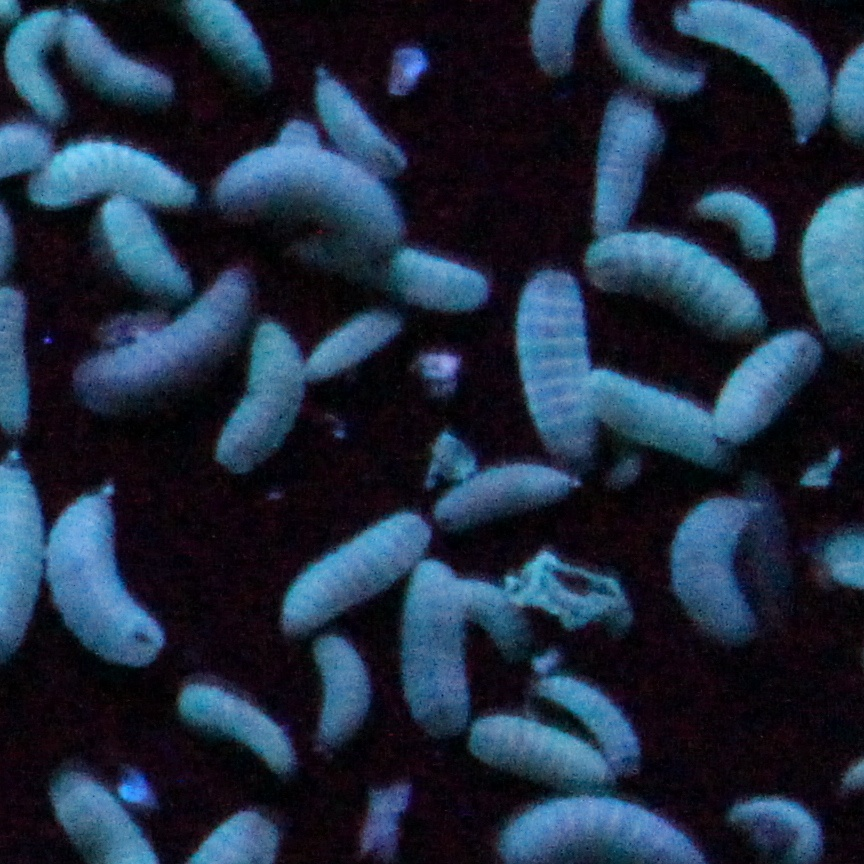larve: (213, 144, 397, 258), (73, 282, 244, 401), (54, 493, 172, 660), (287, 519, 426, 631), (580, 242, 760, 323), (401, 556, 475, 746), (587, 352, 716, 455), (211, 327, 301, 474), (522, 276, 591, 466), (464, 719, 615, 795), (582, 84, 658, 230), (684, 501, 758, 650), (53, 11, 172, 101), (338, 244, 487, 315), (716, 345, 833, 435), (93, 191, 197, 291), (28, 144, 201, 199), (530, 682, 632, 774), (305, 62, 393, 168), (178, 692, 293, 766), (1, 1, 65, 123), (309, 311, 399, 378), (440, 474, 572, 519), (324, 638, 375, 752), (466, 583, 528, 660), (684, 199, 787, 240)
